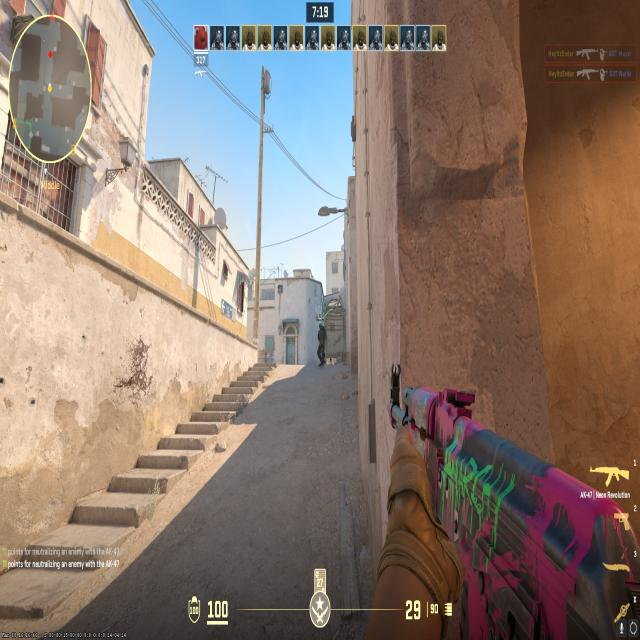ct: (316, 321, 327, 366)
